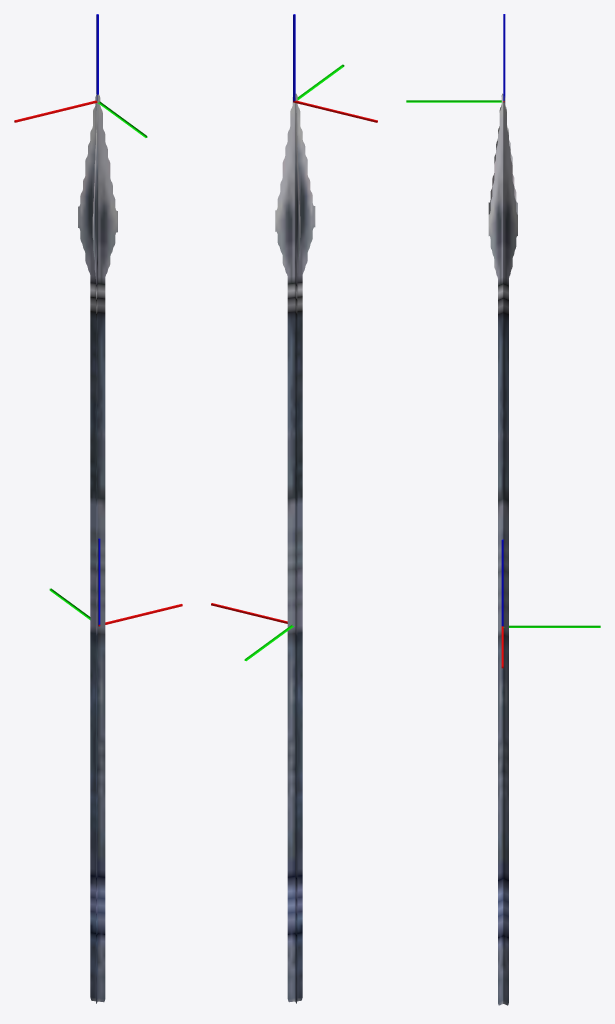
Rendered from spear.glb.
The picture shows the model from 3 angles, left to right: view 1: azimuth 30°, elevation 25°; view 2: azimuth 150°, elevation 25°; view 3: azimuth 270°, elevation 25°; orthographic projection.
Visible parts, largest first — view 1: attachments a spear ironModel, Dummy_attachpoint, Dummy_hotspot; view 2: attachments a spear ironModel, Dummy_attachpoint, Dummy_hotspot; view 3: attachments a spear ironModel, Dummy_hotspot, Dummy_attachpoint.
Boxes of the visible parts, bbox=[...] form: attachments a spear ironModel: bbox=[78, 94, 117, 1003]; Dummy_attachpoint: bbox=[14, 14, 147, 137]; Dummy_hotspot: bbox=[49, 538, 182, 626]; attachments a spear ironModel: bbox=[275, 93, 315, 1003]; Dummy_attachpoint: bbox=[293, 14, 377, 122]; Dummy_hotspot: bbox=[211, 603, 293, 661]; attachments a spear ironModel: bbox=[488, 93, 517, 1005]; Dummy_hotspot: bbox=[501, 539, 600, 668]; Dummy_attachpoint: bbox=[406, 14, 505, 102].
Bounding box in the file's own units: 0.4973 × 2.81 × 0.5006.
2 materials, 1 textured.
